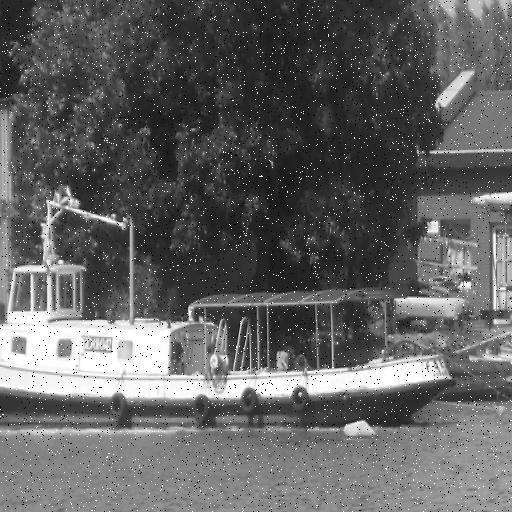tugboat: (1, 181, 465, 454)
